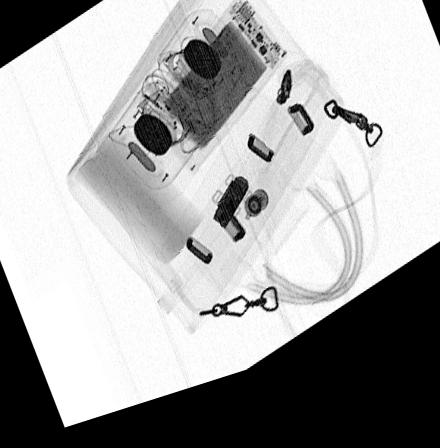Powerbank: (143, 5, 289, 187)
